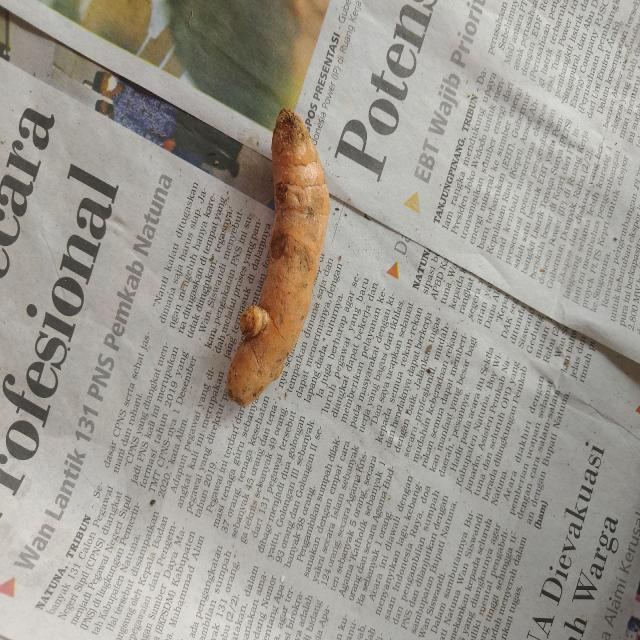ginger: (220, 108, 344, 419)
